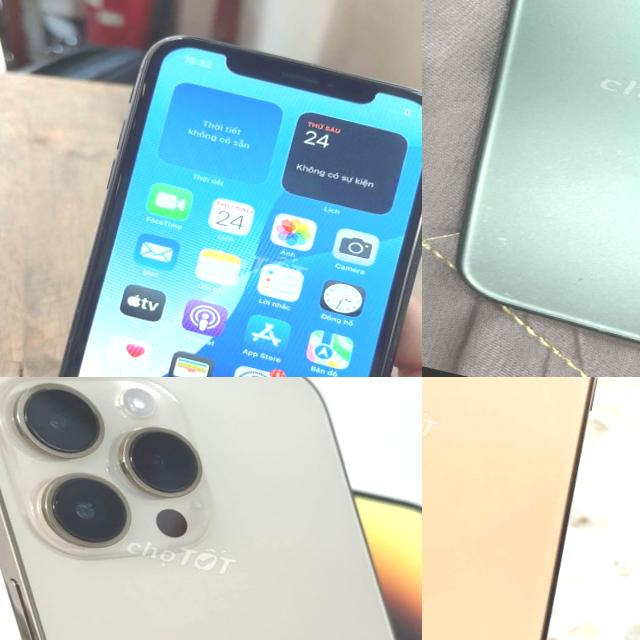gen_11: (422, 0, 640, 377), (422, 377, 640, 640)
gen_14: (0, 377, 422, 640)
gen_x_xs: (33, 20, 422, 377)
